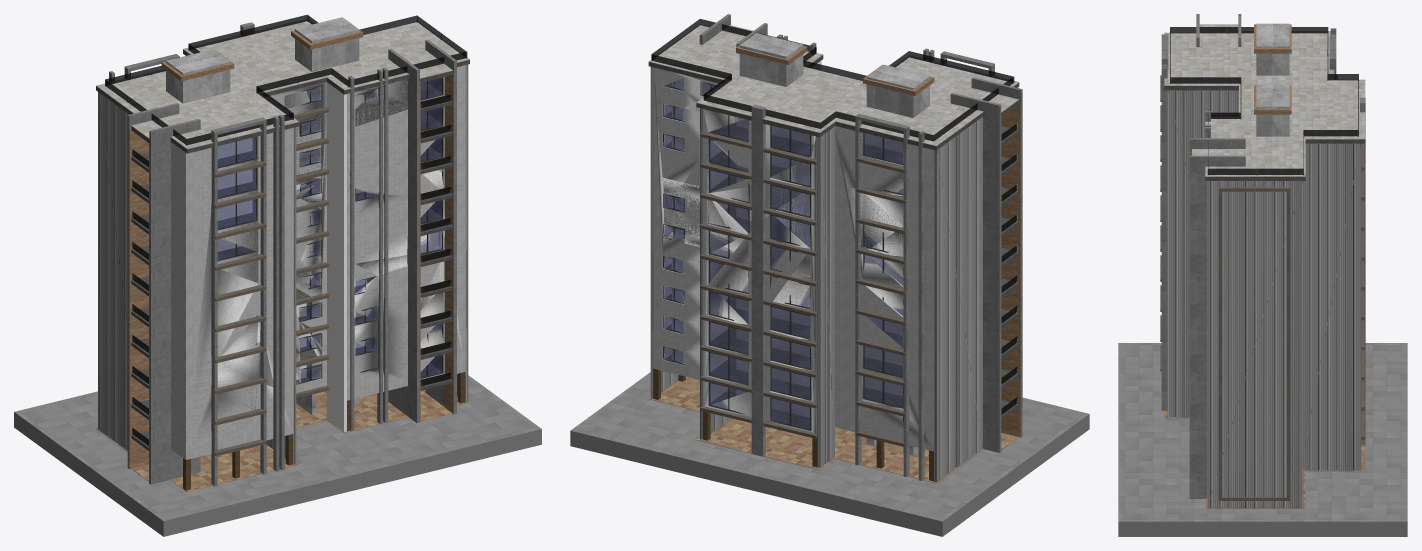
File: toa-nha-1.glb
The picture shows the model from 3 angles, left to right: view 1: azimuth 30°, elevation 25°; view 2: azimuth 150°, elevation 25°; view 3: azimuth 270°, elevation 25°; orthographic projection. The views are drawn at different scales.
Parts seen in each view (by area): view 1: Line001_18 - Rubber_0, Box001_04 - Default_0, Box023_01 - Default_0, Box022_05 - Default_0, Shape012_16 - Matte Plastic_0, Box037_03 - Default_0, Shape001_06 - Default_0, Line005_14 - Polished Aluminum_0, Box176_Ceramic_0, Box181_11 - Default_0, Box291_12 - Car Paint_0, Box027_Solid Glass_0 (+3 smaller); view 2: Line001_18 - Rubber_0, Box037_03 - Default_0, Box001_04 - Default_0, Box022_05 - Default_0, Box023_01 - Default_0, Box181_11 - Default_0, Shape012_16 - Matte Plastic_0, Shape001_06 - Default_0, Box027_Solid Glass_0, Shape013_02 - Default_0, Line005_14 - Polished Aluminum_0, Box291_12 - Car Paint_0 (+3 smaller); view 3: Box037_03 - Default_0, Box023_01 - Default_0, Shape012_16 - Matte Plastic_0, Box001_04 - Default_0, Box027_Solid Glass_0, Box022_05 - Default_0, Box291_12 - Car Paint_0, Line005_14 - Polished Aluminum_0, Shape001_06 - Default_0, Box293_13 - Brushed Metal #2_0, Shape013_02 - Default_0.
Part boxes in pixels (x1,y1,x2,y2): Line001_18 - Rubber_0: [171, 65, 465, 459]; Box001_04 - Default_0: [109, 22, 456, 486]; Box023_01 - Default_0: [14, 375, 541, 522]; Box022_05 - Default_0: [14, 14, 541, 536]; Shape012_16 - Matte Plastic_0: [96, 19, 469, 149]; Box037_03 - Default_0: [98, 64, 468, 464]; Shape001_06 - Default_0: [96, 50, 469, 450]; Line005_14 - Polished Aluminum_0: [105, 14, 466, 445]; Box176_Ceramic_0: [129, 73, 453, 482]; Box181_11 - Default_0: [217, 78, 441, 381]; Box291_12 - Car Paint_0: [166, 17, 359, 414]; Box027_Solid Glass_0: [215, 107, 328, 456]; Line001_18 - Rubber_0: [653, 67, 933, 451]; Box037_03 - Default_0: [650, 67, 982, 481]; Box001_04 - Default_0: [699, 14, 1022, 480]; Box022_05 - Default_0: [570, 23, 1089, 536]; Box023_01 - Default_0: [570, 372, 1089, 522]; Box181_11 - Default_0: [664, 78, 903, 429]; Shape012_16 - Matte Plastic_0: [648, 25, 1019, 146]; Shape001_06 - Default_0: [648, 55, 1019, 429]; Box027_Solid Glass_0: [700, 132, 905, 446]; Shape013_02 - Default_0: [649, 377, 1018, 483]; Line005_14 - Polished Aluminum_0: [651, 19, 1017, 414]; Box291_12 - Car Paint_0: [739, 33, 929, 455]; Box037_03 - Default_0: [1167, 90, 1361, 508]; Box023_01 - Default_0: [1118, 343, 1407, 522]; Shape012_16 - Matte Plastic_0: [1164, 24, 1365, 176]; Box001_04 - Default_0: [1161, 14, 1365, 498]; Box027_Solid Glass_0: [1160, 75, 1364, 500]; Box022_05 - Default_0: [1118, 27, 1407, 536]; Box291_12 - Car Paint_0: [1256, 23, 1289, 136]; Line005_14 - Polished Aluminum_0: [1170, 27, 1358, 174]; Shape001_06 - Default_0: [1164, 86, 1365, 180]; Box293_13 - Brushed Metal #2_0: [1254, 24, 1291, 114]; Shape013_02 - Default_0: [1164, 410, 1365, 508].
Size of the model in its own units: 1 by 0.985 by 0.6843.
Materials: 15 (15 with a texture image).
